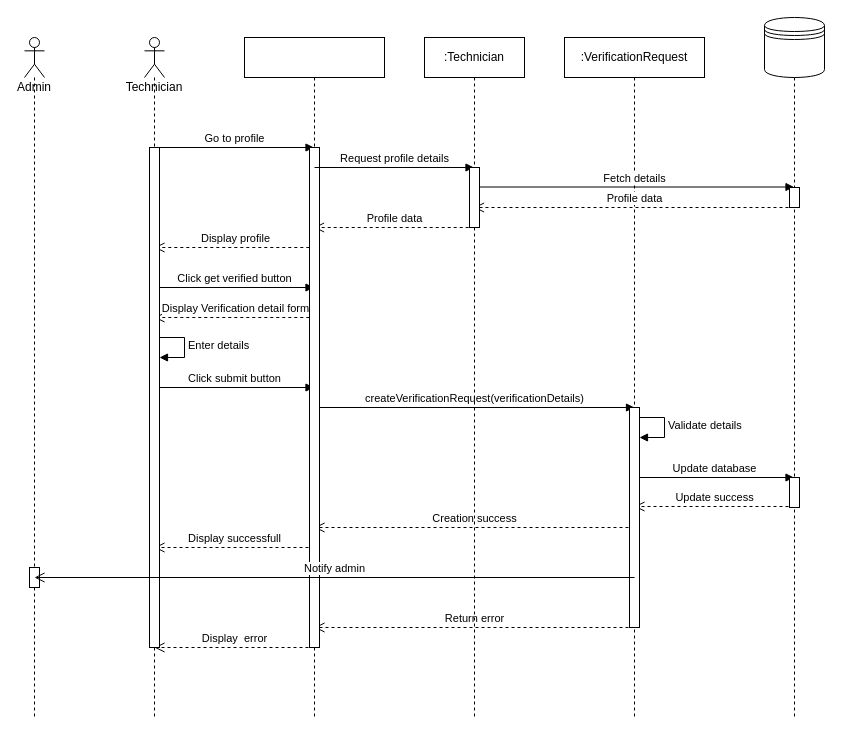
Image size: 842x735. Some labels were removed from this diagram. The box of each missing label's shape, as (x1, y1, x2, y2) in pixels:
Database: (764, 16, 824, 718)
UnverifiedTechnician: TechnicianUI: (244, 36, 384, 718)
